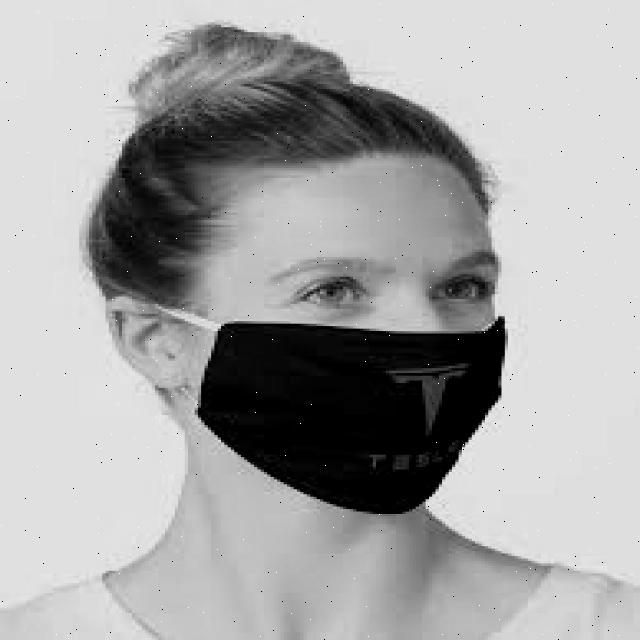fake: (192, 315, 512, 518)
real: (198, 154, 501, 524)
